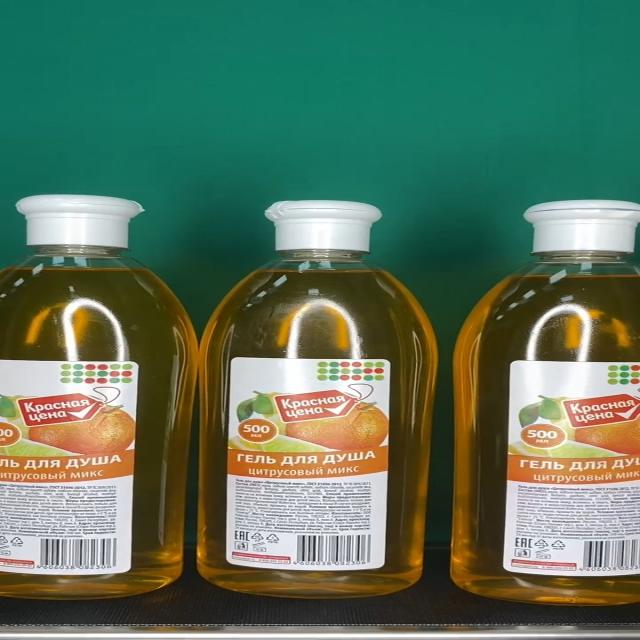Bottle: (196, 201, 438, 598), (0, 194, 200, 600)
Cap: (16, 195, 145, 247), (264, 200, 381, 250)
